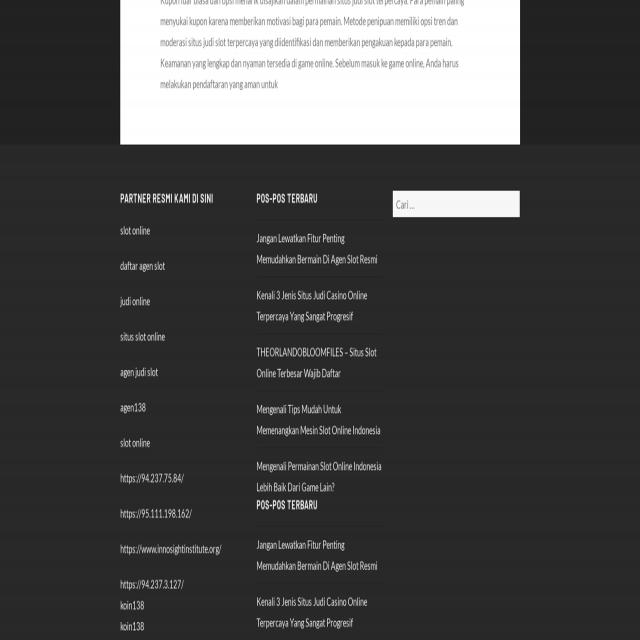field: (392, 191, 520, 217)
